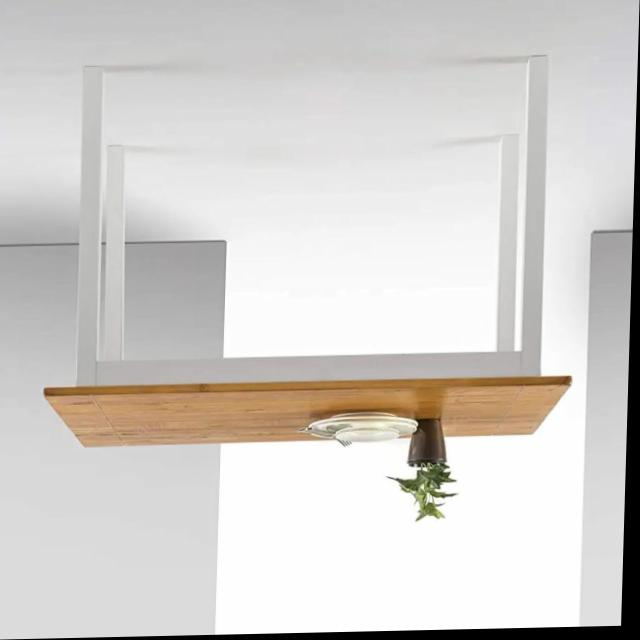Table: (42, 45, 584, 477)
